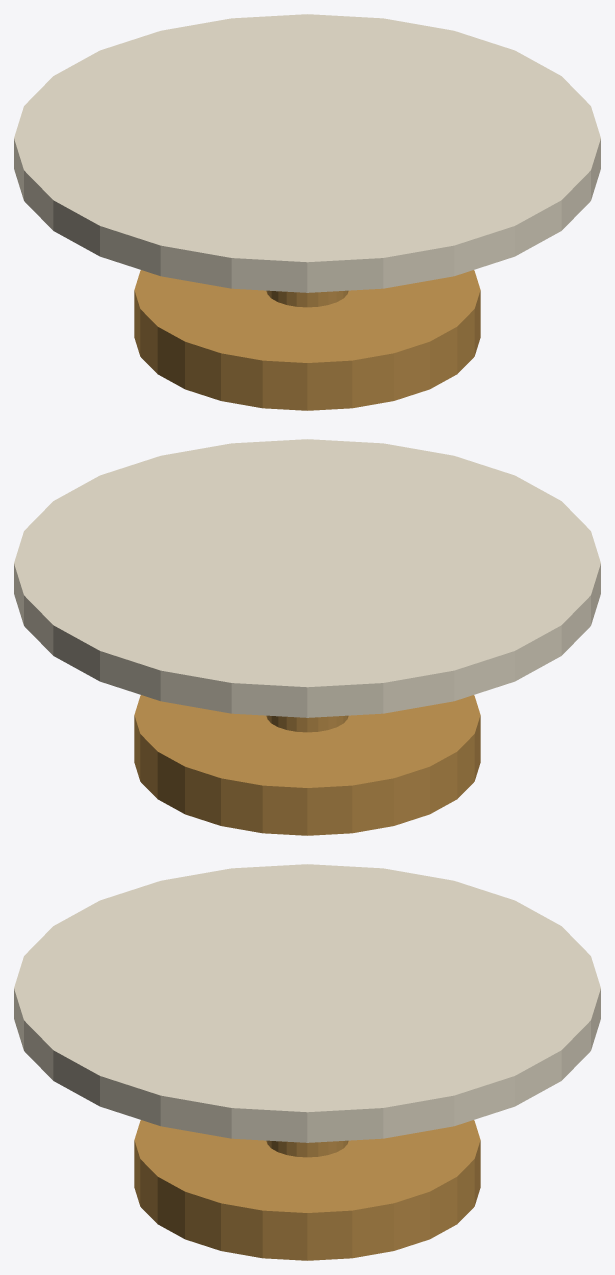
File: cake_stand.glb
3 renders of one model, top to bottom at view 1: azimuth 30°, elevation 25°; view 2: azimuth 150°, elevation 25°; view 3: azimuth 270°, elevation 25°, orthographic.
Parts seen in each view (by area): view 1: cake_stand; view 2: cake_stand; view 3: cake_stand.
Part boxes in pixels (<box>): cake_stand: <box>14,14,600,410</box>; cake_stand: <box>14,439,600,835</box>; cake_stand: <box>14,864,600,1260</box>.
Bounding box in the file's own units: 0.78 × 0.2925 × 0.78.
